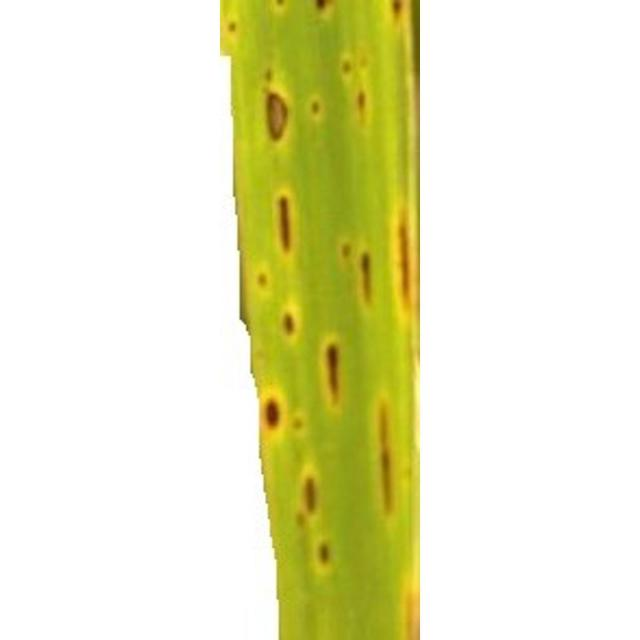Brown spot: (364, 387, 404, 526), (267, 186, 308, 252), (318, 333, 356, 397), (393, 203, 414, 310), (294, 457, 328, 516), (264, 78, 293, 142), (250, 384, 287, 434), (299, 536, 344, 574), (400, 545, 418, 640), (279, 294, 309, 347), (356, 245, 381, 306), (305, 92, 330, 128), (244, 263, 272, 294), (336, 43, 358, 81), (384, 0, 410, 25), (355, 88, 374, 121), (224, 17, 242, 39), (270, 0, 295, 15), (312, 1, 332, 17), (340, 237, 354, 259)
